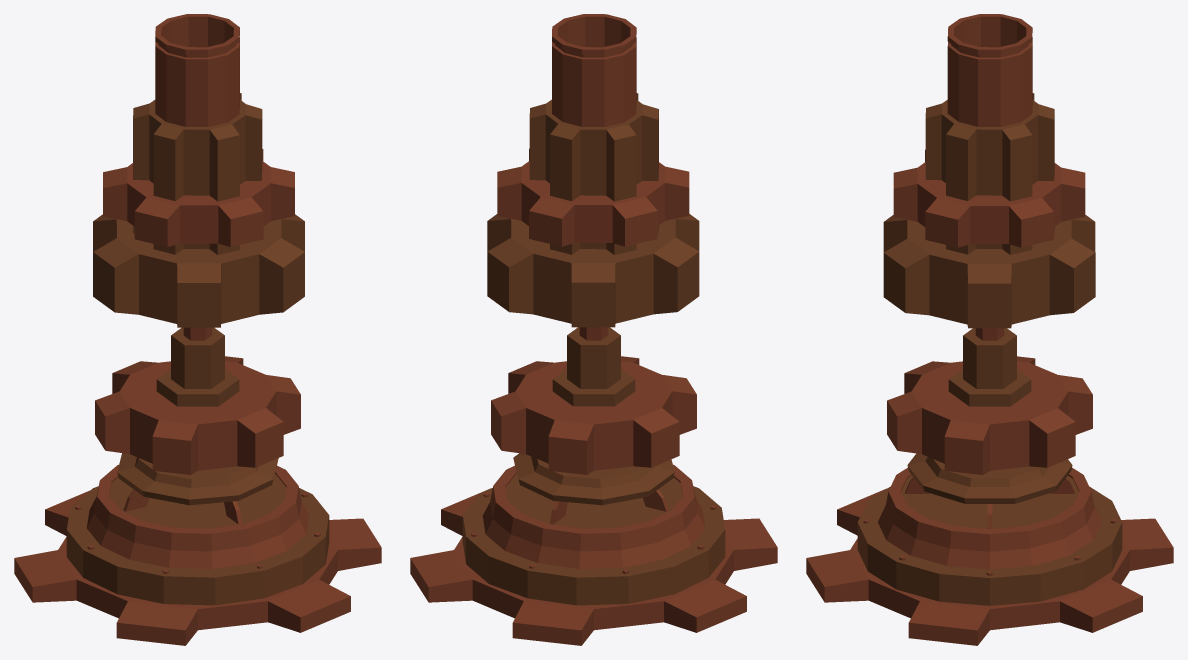
File: Upwards_1.glb
The picture shows the model from 3 angles, left to right: view 1: azimuth 30°, elevation 25°; view 2: azimuth 150°, elevation 25°; view 3: azimuth 270°, elevation 25°; orthographic projection.
Parts seen in each view (by area): view 1: Upwards_1_Base, Upwards_1_Gun, Upwards_1_Mid; view 2: Upwards_1_Gun, Upwards_1_Base, Upwards_1_Mid; view 3: Upwards_1_Gun, Upwards_1_Base, Upwards_1_Mid.
Boxes of the visible parts, left/top/right/bottom form: Upwards_1_Base: left=14, top=453, right=381, bottom=645; Upwards_1_Gun: left=93, top=14, right=304, bottom=327; Upwards_1_Mid: left=95, top=327, right=300, bottom=474; Upwards_1_Gun: left=487, top=14, right=699, bottom=327; Upwards_1_Base: left=410, top=453, right=777, bottom=645; Upwards_1_Mid: left=491, top=327, right=696, bottom=474; Upwards_1_Gun: left=883, top=14, right=1095, bottom=328; Upwards_1_Base: left=806, top=453, right=1173, bottom=645; Upwards_1_Mid: left=887, top=328, right=1092, bottom=474.
Bounding box in the file's own units: 1.38 × 2.23 × 1.38.
